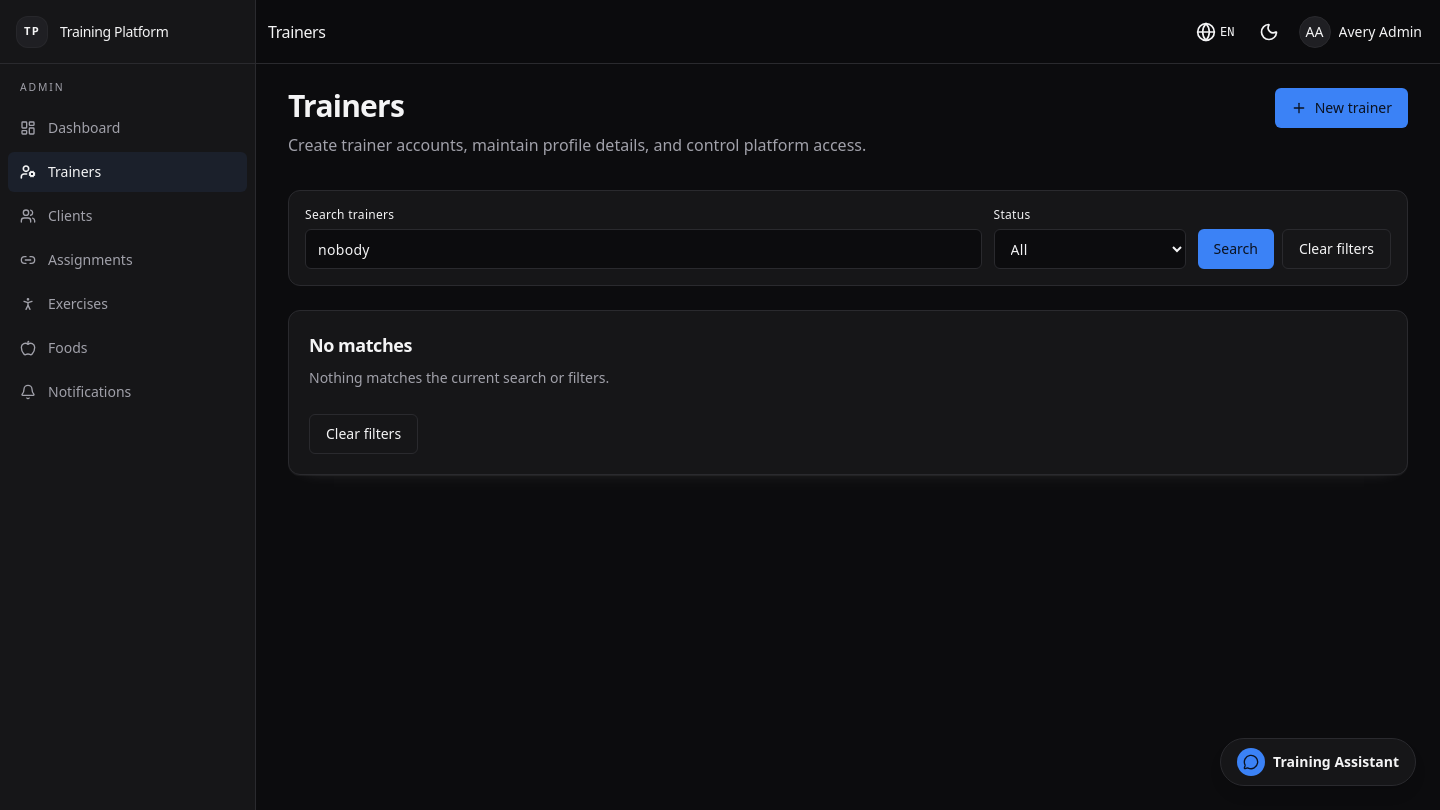
Scenario: Admin workspace › trainers › distinguishes a filtered empty result and clears filters
The image size is (1440, 810).
Expected: the heading "No matches" is shown, 309,333 -> 412,357
Click the button "Clear filters" below "No matches" at coordinates (364, 434), box 309,414 -> 418,454
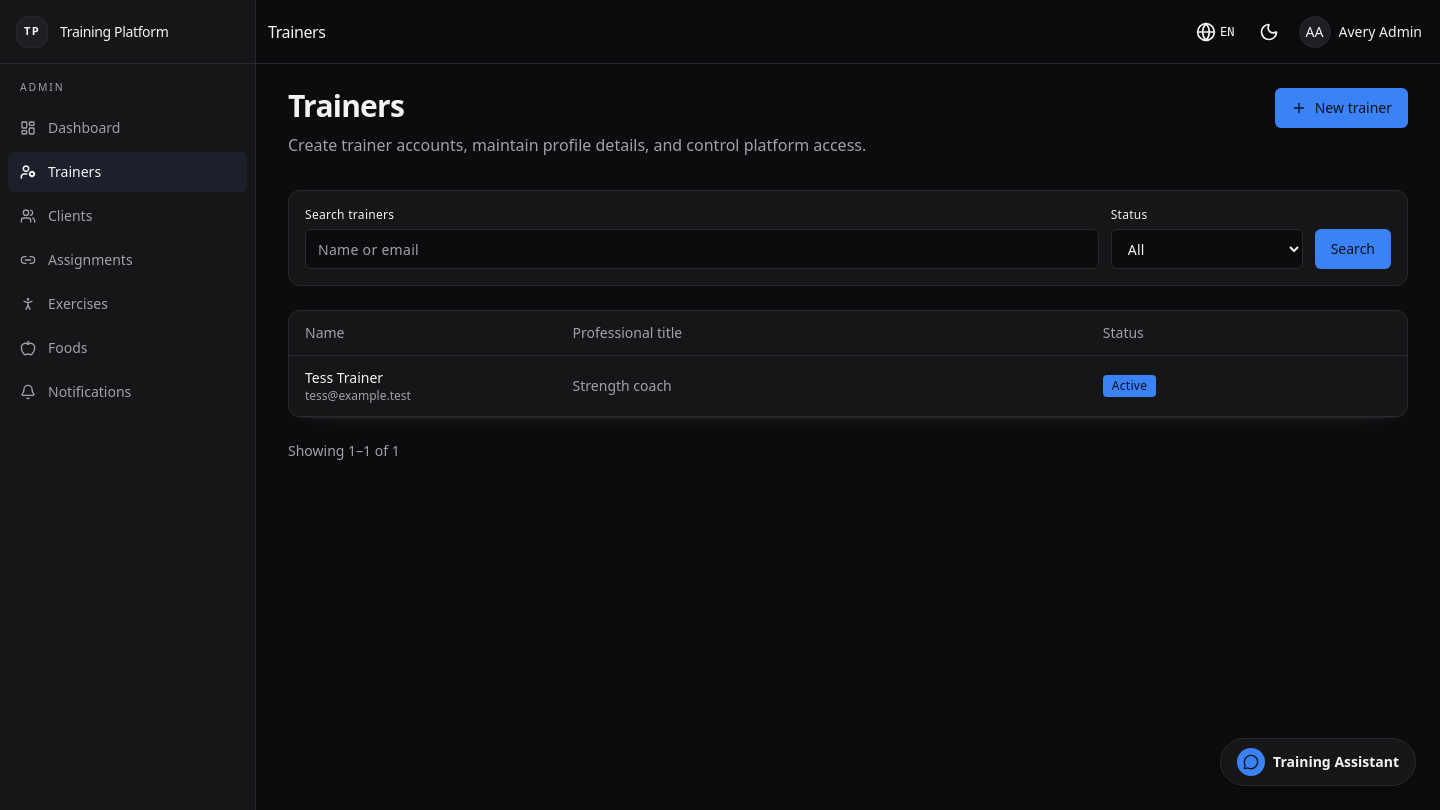
Expected: the link "Tess Trainer" is shown, 305,368 -> 383,387
